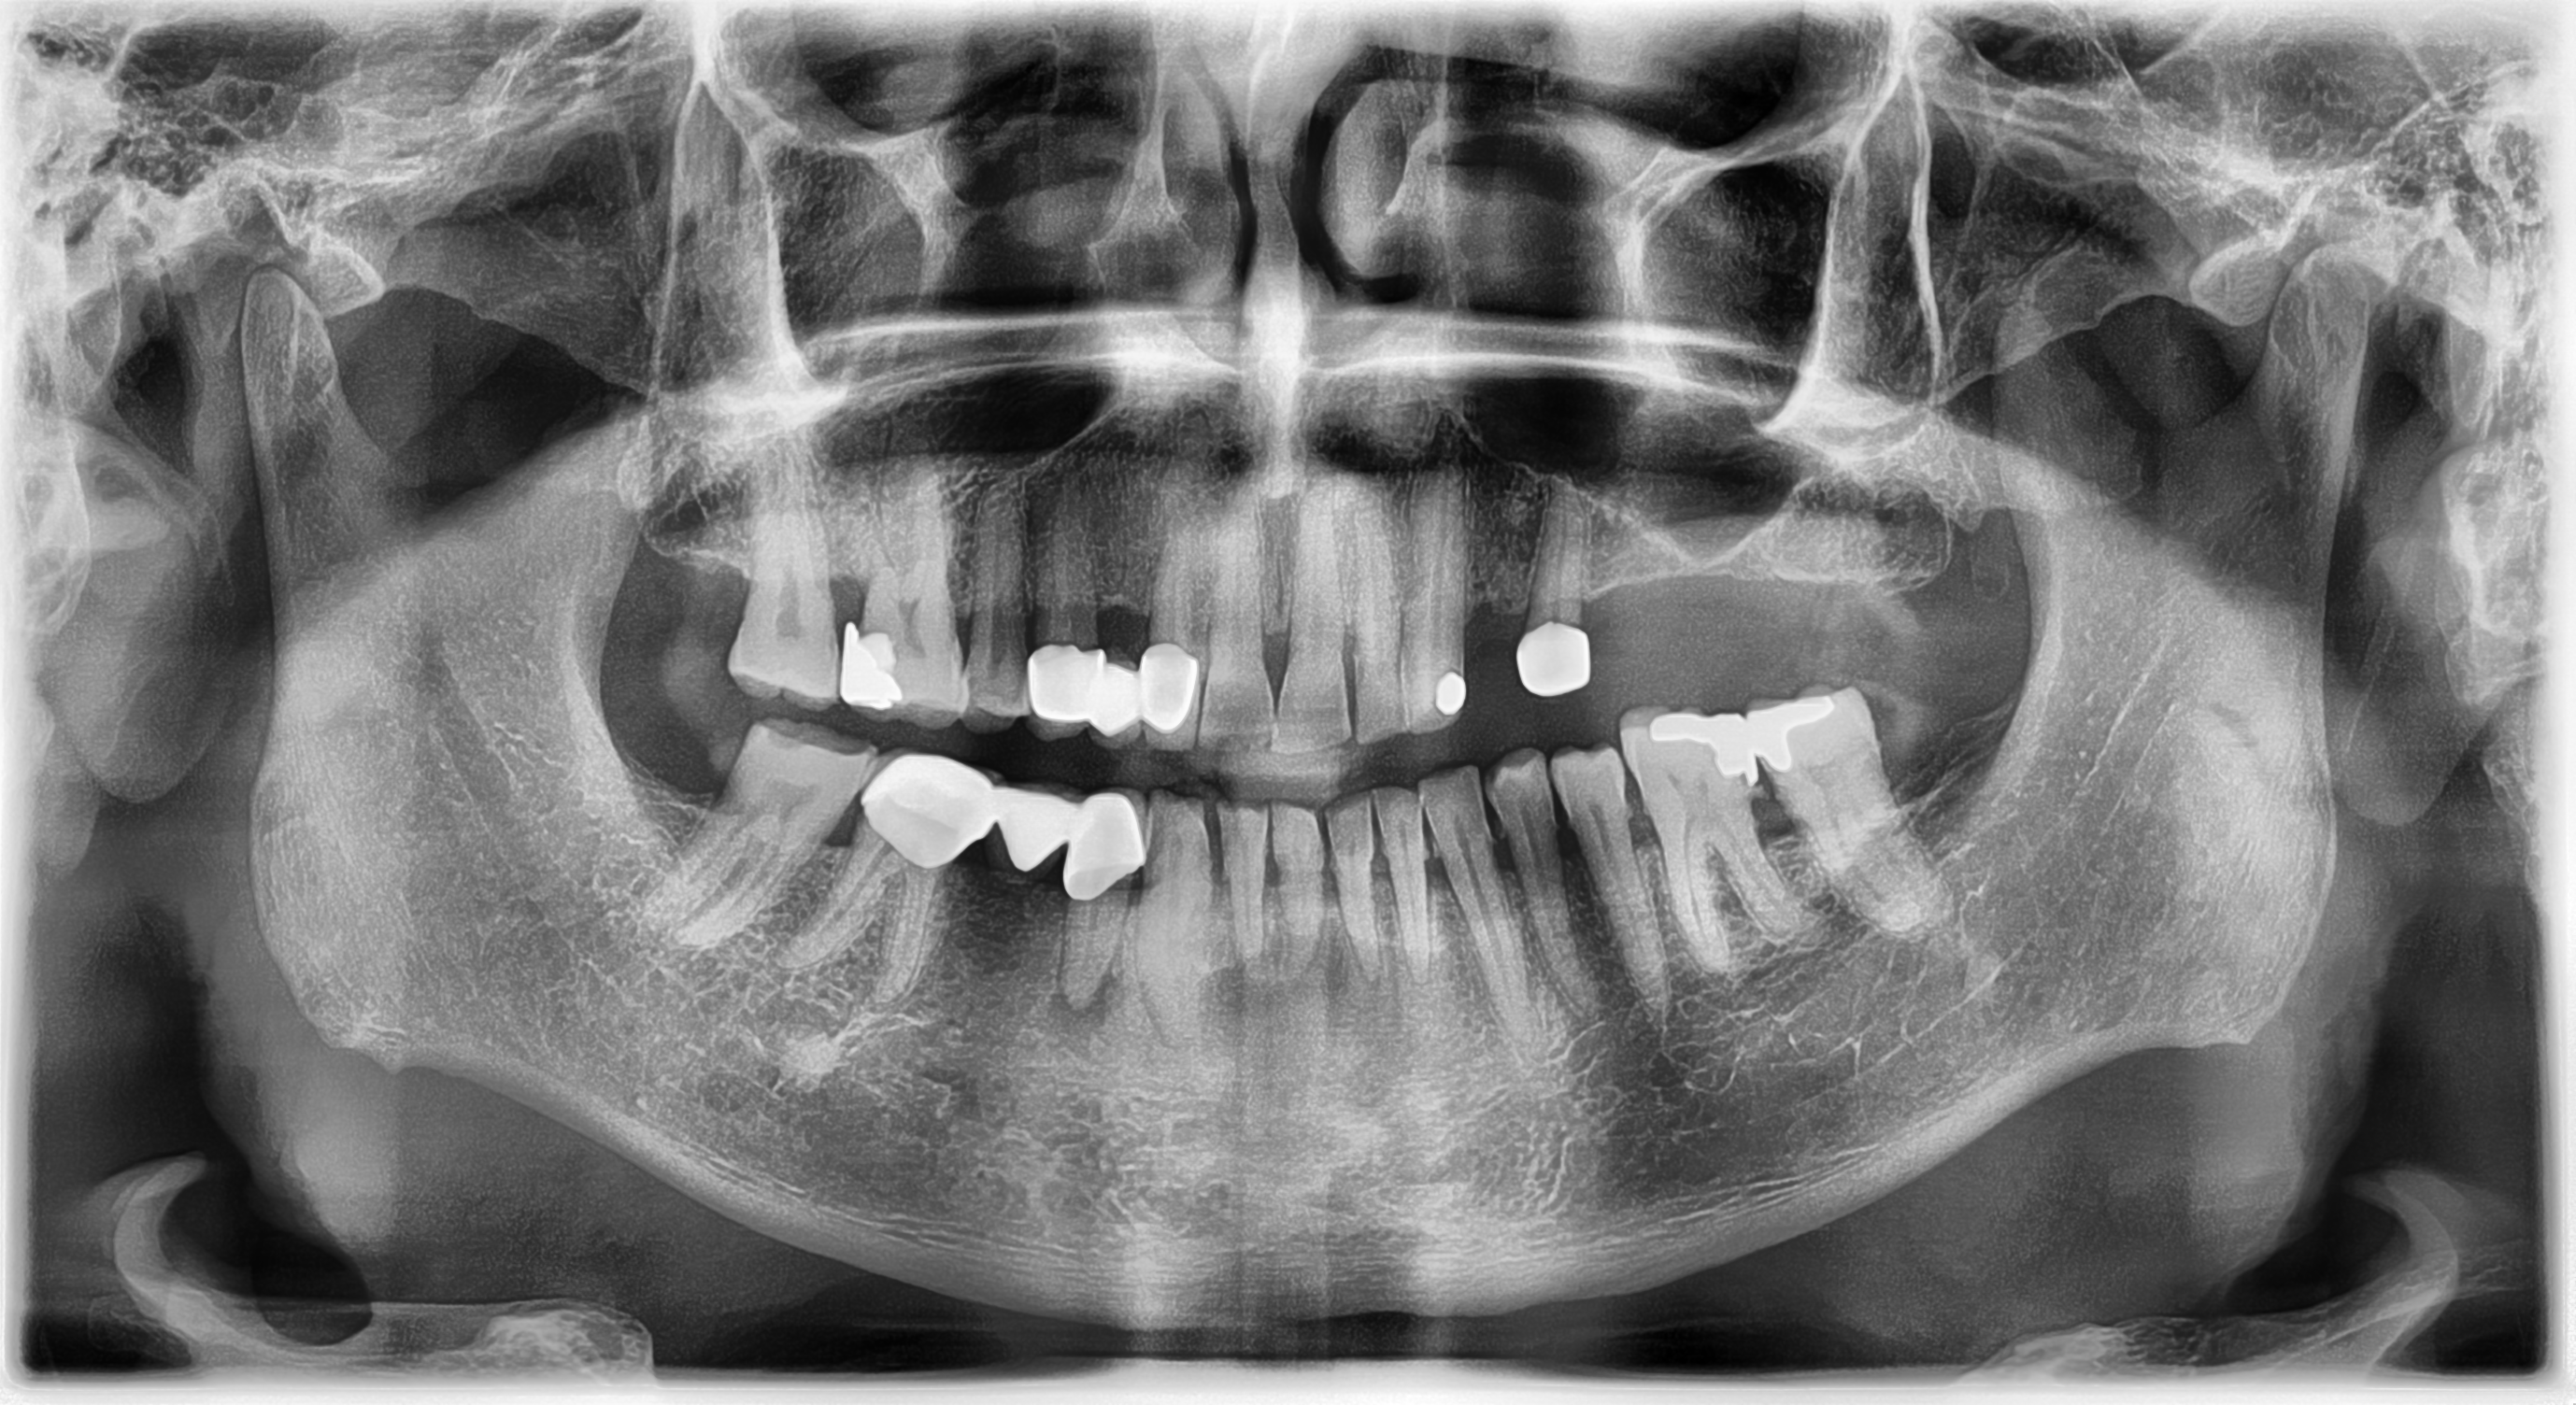zona_dentula: (1571, 478, 1936, 673), (1431, 472, 1559, 713)
